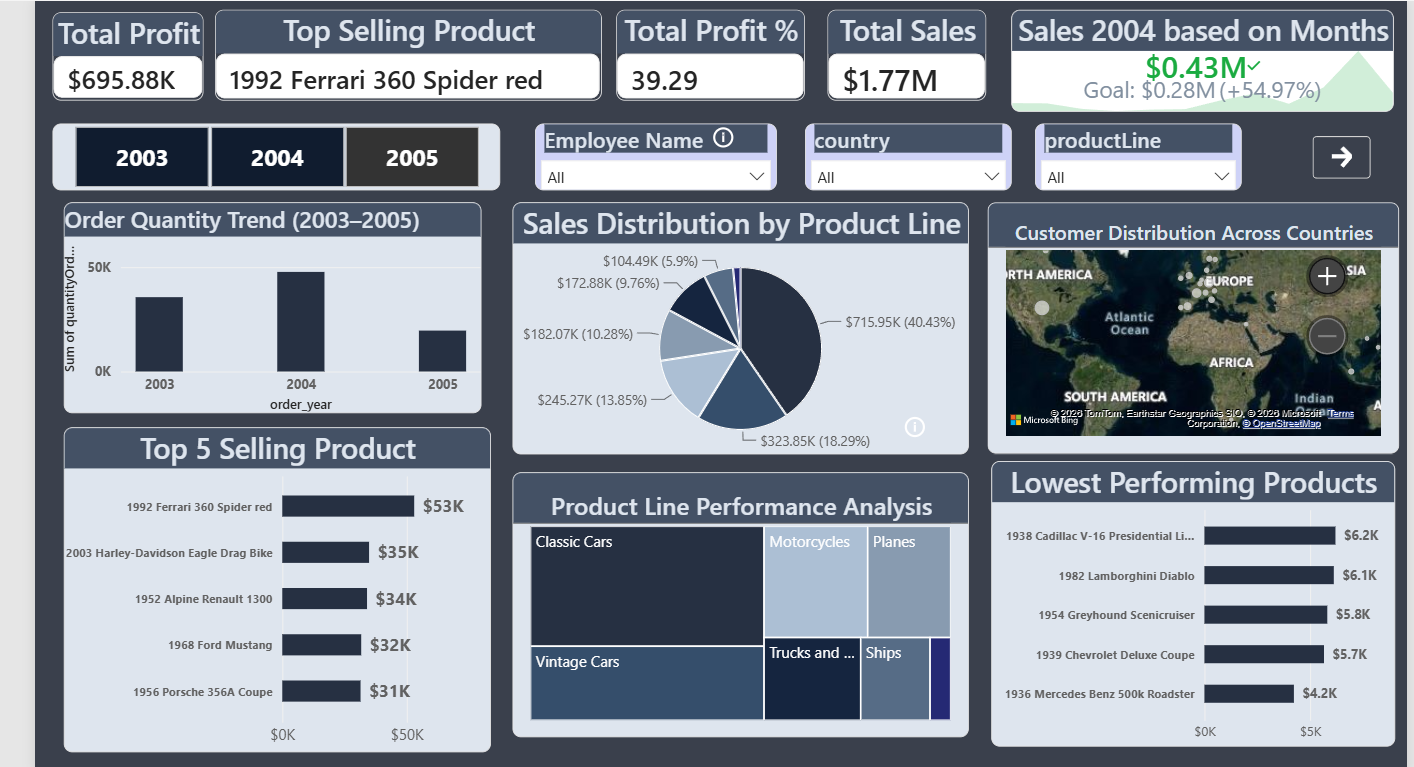

The page's visual inventory and layout, read from the dashboard file:
{"tool":"powerbi","page":{"name":"Orders and Sales","canvas":[1280,720],"ordinal":0},"visuals":[{"type":"pieChart","title":"Sales Distribution by Product Line","fields":{"Category":["product database.productLine"],"Y":["Sum(order details.sales)"]},"box":[445.2,188.2,425.9,235.3],"z":0},{"type":"cardVisual","title":"Total Profit","fields":{"Data":["order details.total_profit"]},"box":[16.9,10.9,141.2,82],"z":1000},{"type":"cardVisual","title":"Top Selling Product","fields":{"Data":["order details.Most Ordered Product"]},"box":[167.7,8.4,360.7,84.5],"z":2000},{"type":"barChart","title":"Top 5 Selling Product","fields":{"Category":["products.productName"],"Y":["Sum(order details.sales)"]},"box":[26.5,398.1,398.1,302.8],"z":3000},{"type":"kpi","title":"Sales 2004 based on Months","fields":{"Goal":["order details.sales_2003"],"Indicator":["order details.sales_2004"],"TrendLine":["order.orderDate.Variation.Date Hierarchy.Month"]},"box":[910.9,8.4,357.1,95.3],"z":4000},{"type":"map","title":"Customer Distribution Across Countries","fields":{"Category":["customer database.country"],"Size":["CountNonNull(customer database.customerNumber)"]},"box":[887.9,188.2,383.6,234],"z":5000},{"type":"slicer","fields":{"Values":["order.shippedDate.Variation.Date Hierarchy.Year"]},"box":[16.9,114.6,417.4,62.7],"z":6000},{"type":"treemap","title":"Product Line Performance Analysis","fields":{"Group":["productlines.productLine"],"Values":["Sum(order details.quantityOrdered)"]},"box":[445.2,439.1,425.9,247.3],"z":7000},{"type":"columnChart","title":"Order Quantity Trend (2003–2005)","fields":{"Category":["order.order_year"],"Y":["Sum(order details.quantityOrdered)"]},"box":[26.5,188.2,389.7,196.6],"z":8000},{"type":"cardVisual","title":"Total Profit %","fields":{"Data":["classic_models_dataset (2).Profit_measure%"]},"box":[541.7,8.4,176.1,84.5],"z":9000},{"type":"cardVisual","title":"Total Sales","fields":{"Data":["Sum(order details.sales)"]},"box":[739.5,8.4,148.4,84.5],"z":10000},{"type":"barChart","title":"Lowest Performing Products","fields":{"Category":["products.productName"],"Y":["Sum(order details.sales)"]},"box":[891.6,429.5,376.4,266.6],"z":11000},{"type":"slicer","fields":{"Values":["employee database.Name"]},"box":[466.9,114.6,225.6,62.7],"z":12000},{"type":"slicer","fields":{"Values":["customer database.country"]},"box":[717.8,114.6,193,62.7],"z":13000},{"type":"slicer","fields":{"Values":["productlines.productLine"]},"box":[932.6,114.6,193,62.7],"z":14000},{"type":"actionButton","box":[616.5,108.6,50.7,37.4],"z":15000},{"type":"actionButton","box":[1192,125.5,54.3,39.8],"z":16000},{"type":"actionButton","box":[770.9,377.6,100.1,39.8],"z":16001}]}

Visuals, with their boxes on the page's 1280x720 design canvas (x1, y1, x2, y2). These are canvas units, not pixel positions in the 1414x767 screenshot, which may show the page scaled, cropped or inside an application window:
"Sales Distribution by Product Line" pieChart: left=445, top=188, right=871, bottom=424
"Total Profit" cardVisual: left=17, top=11, right=158, bottom=93
"Top Selling Product" cardVisual: left=168, top=8, right=528, bottom=93
"Top 5 Selling Product" barChart: left=26, top=398, right=425, bottom=701
"Sales 2004 based on Months" kpi: left=911, top=8, right=1268, bottom=104
"Customer Distribution Across Countries" map: left=888, top=188, right=1272, bottom=422
slicer - order.shippedDate.Variation.Date Hierarchy.Year: left=17, top=115, right=434, bottom=177
"Product Line Performance Analysis" treemap: left=445, top=439, right=871, bottom=686
"Order Quantity Trend (2003–2005)" columnChart: left=26, top=188, right=416, bottom=385
"Total Profit %" cardVisual: left=542, top=8, right=718, bottom=93
"Total Sales" cardVisual: left=740, top=8, right=888, bottom=93
"Lowest Performing Products" barChart: left=892, top=430, right=1268, bottom=696
slicer - employee database.Name: left=467, top=115, right=692, bottom=177
slicer - customer database.country: left=718, top=115, right=911, bottom=177
slicer - productlines.productLine: left=933, top=115, right=1126, bottom=177
actionButton: left=616, top=109, right=667, bottom=146
actionButton: left=1192, top=126, right=1246, bottom=165
actionButton: left=771, top=378, right=871, bottom=417
